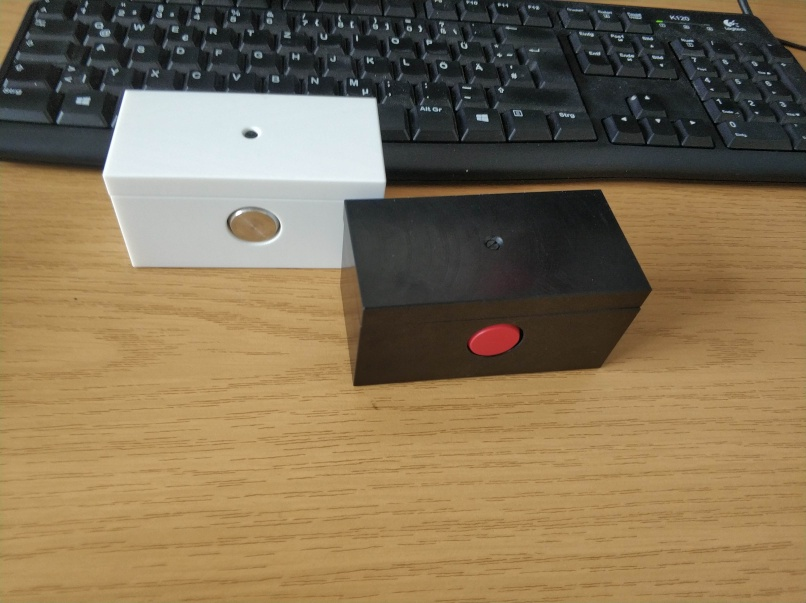black+black+red: (335, 184, 656, 389)
white+white+silver: (100, 86, 392, 273)
